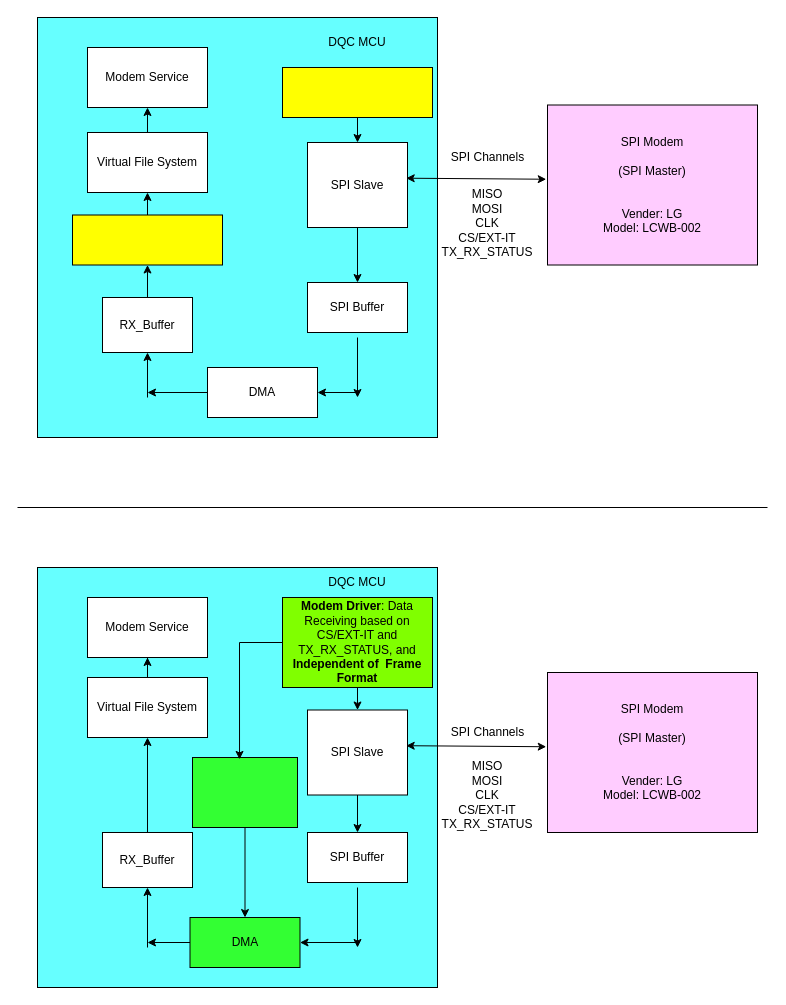
Image size: 786x1005. Some labels were removed from this diagram. Here are the shapes that lost their labels. From the top down, the centre of each, then its label:
At (357,92): "Modem Driver : Data Receiving based on Frame Format i.e 0xAA~0xBB".
At (147,239): "Modem Driver : Data Parsing based on Frame Format i.e 0xAA~0xBB".
At (245,792): "DMA Control : Data processing based on DMA TransferSize".
